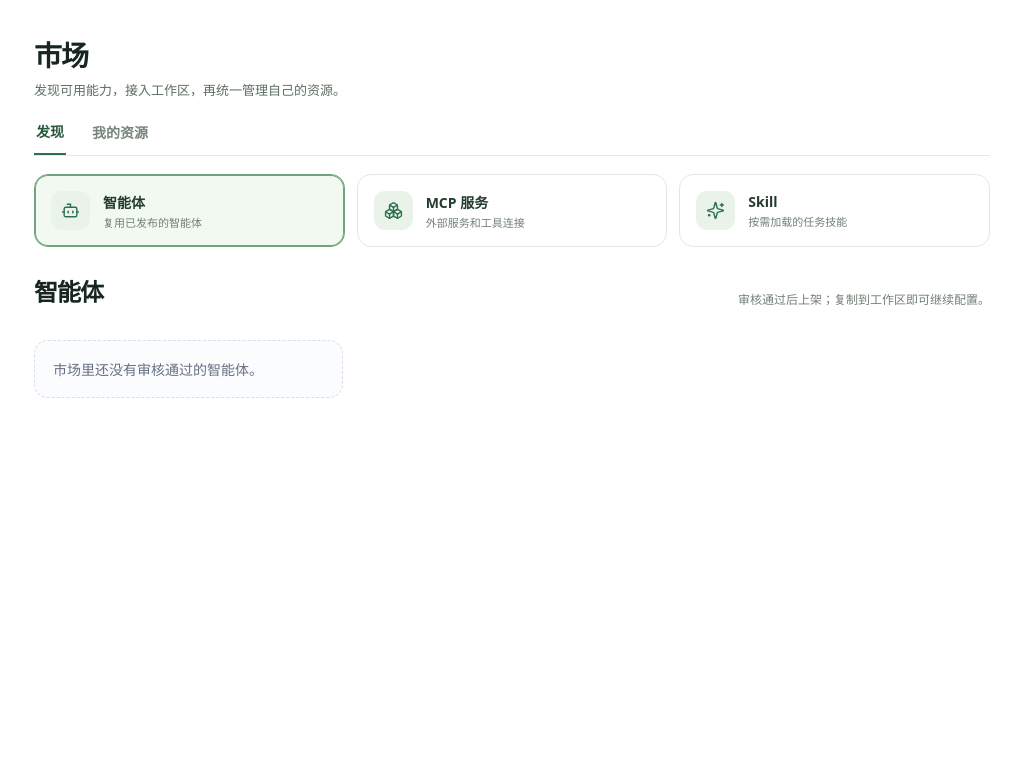
Test: 市场资源分类 › 发现页浏览能力，管理连接跳转到我的资源后才出现管理操作
The width and height of the screenshot is (1024, 768).
Click the button "MCP 服务 外部服务和工具连接". click: (393, 211)
box: 357,174 -> 667,247
(page scrolled)
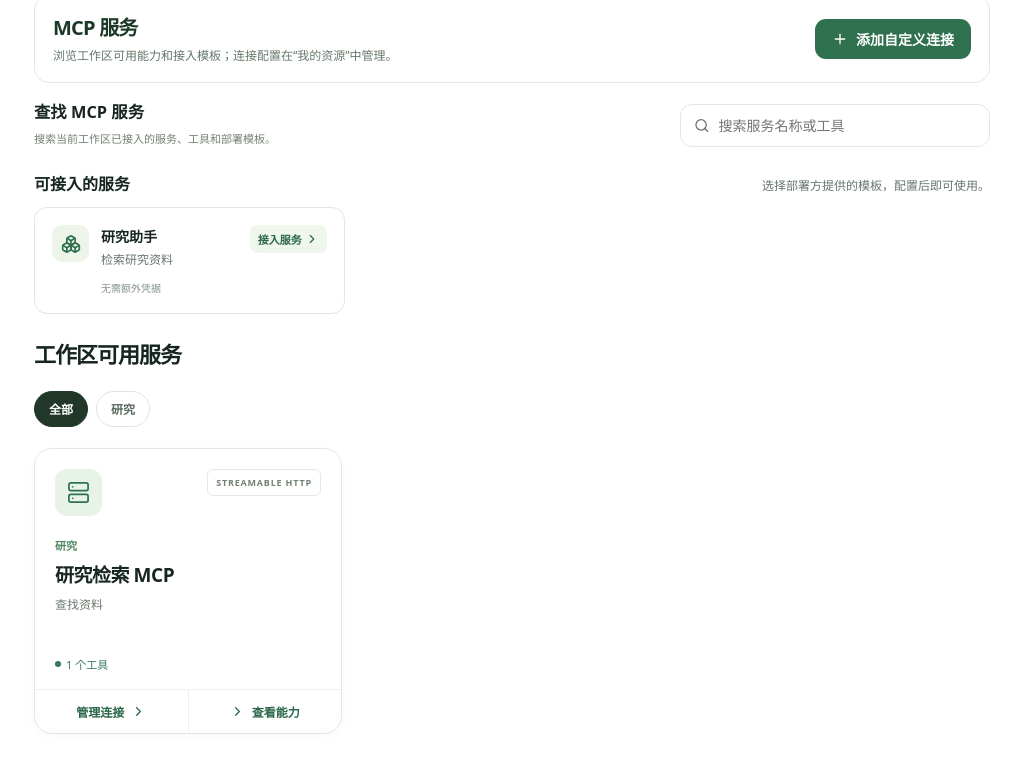
expect the button "检测连接" is not shown: met
expect the heading "研究检索 MCP" is shown: met, box 55,562 -> 174,588
Click the button "管理连接". click: (111, 712)
box: 35,690 -> 188,733
(page scrolled)
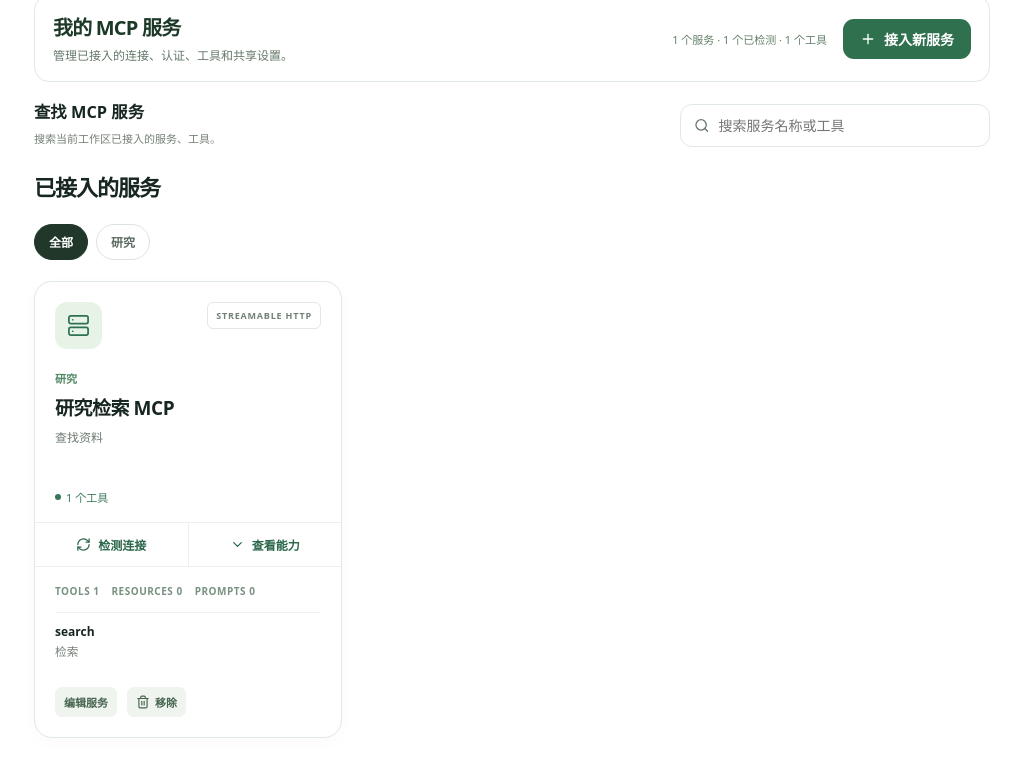
expect the button "检测连接" is shown: met, box 35,523 -> 188,566
expect the button "编辑服务" is shown: met, box 55,686 -> 117,716
